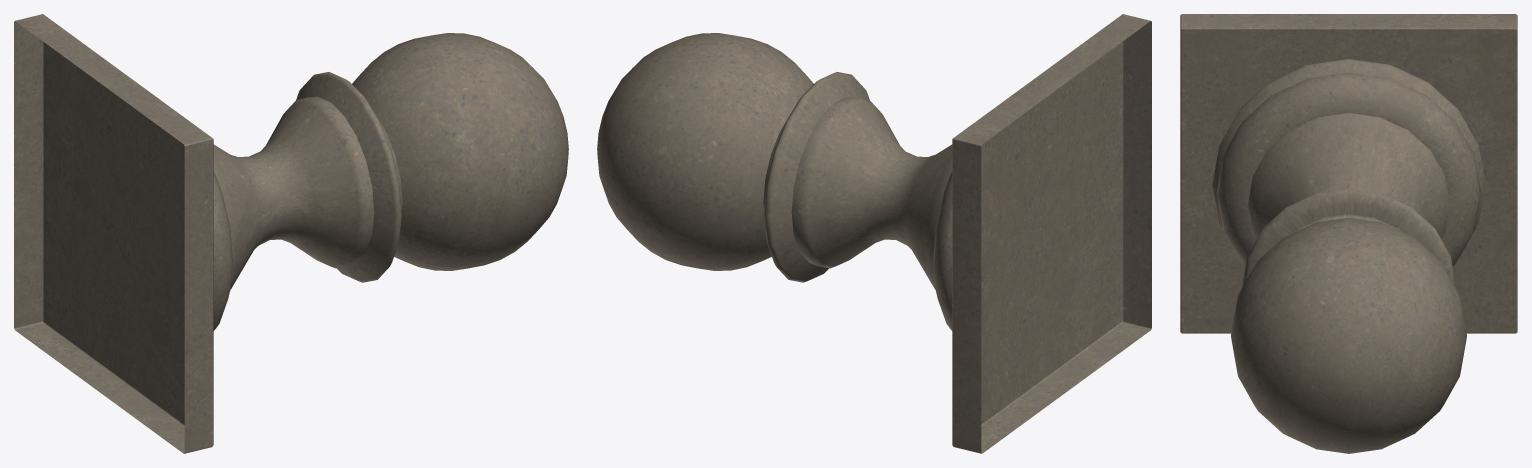
File: cP_BarrierSphere02.dae
The picture shows the model from 3 angles, left to right: view 1: azimuth 30°, elevation 25°; view 2: azimuth 150°, elevation 25°; view 3: azimuth 270°, elevation 25°; orthographic projection.
Parts seen in each view (by area): view 1: cP_BarrierSphere02.001; view 2: cP_BarrierSphere02.001; view 3: cP_BarrierSphere02.001.
Boxes of the visible parts, box(x1,y1,x2,y2) form: cP_BarrierSphere02.001: box(14, 14, 568, 453); cP_BarrierSphere02.001: box(597, 14, 1151, 453); cP_BarrierSphere02.001: box(1180, 14, 1517, 453).
Bounding box in the file's own units: 0.5585 × 0.3641 × 0.3641.
